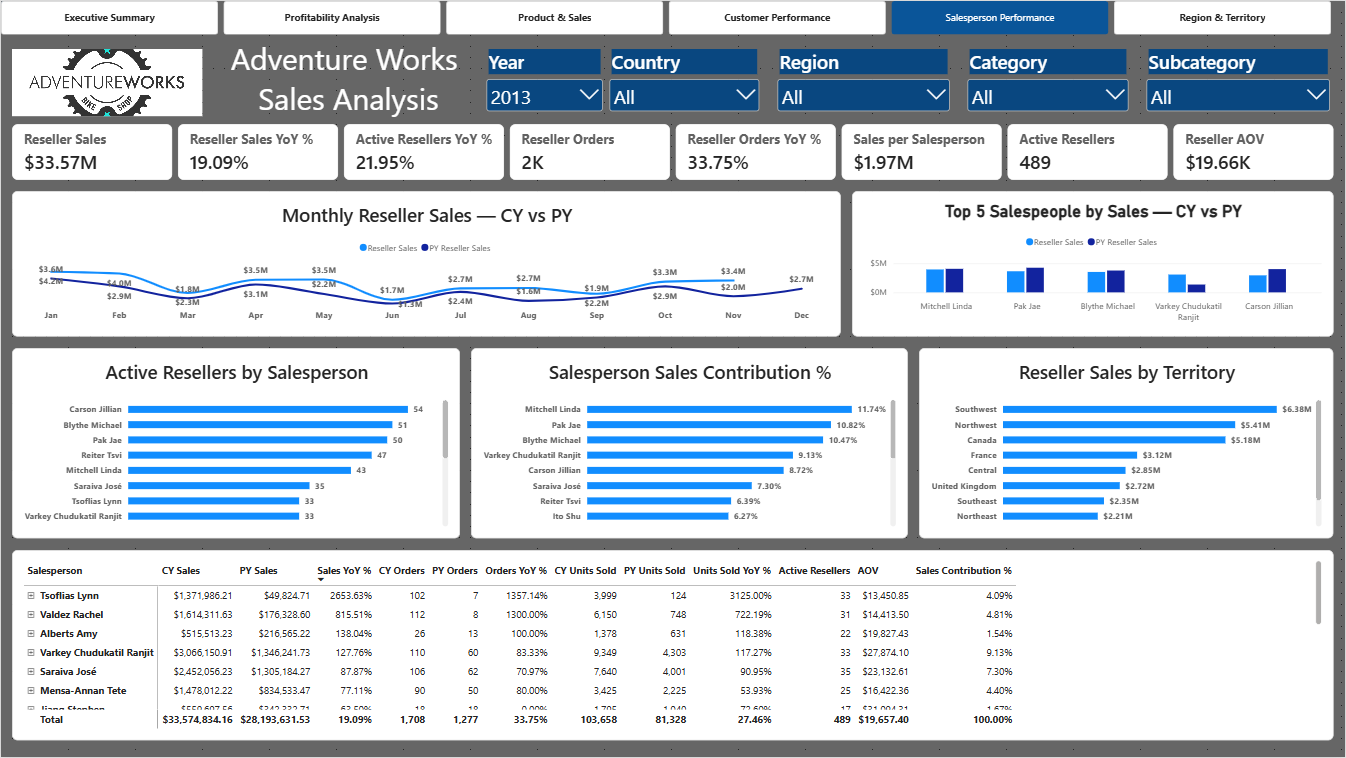

What the dashboard file says about the page in this screenshot:
{"tool":"powerbi","page":{"name":"Salesperson Performance","canvas":[1920,1080],"ordinal":4},"visuals":[{"type":"textbox","box":[304,52.1,384,144],"z":0},{"type":"image","box":[16,68.1,272,96],"z":1000},{"type":"slicer","fields":{"Values":["DimDate.CalendarYear"]},"box":[688,68.1,176,96],"z":2000},{"type":"slicer","fields":{"Values":["DimSalesTerritory.SalesTerritoryRegion"]},"box":[1104,68.1,256,96],"z":3000},{"type":"slicer","fields":{"Values":["DimProductCategory.EnglishProductCategoryName"]},"box":[1376,68.1,240,96],"z":4000},{"type":"slicer","fields":{"Values":["DimProductSubcategory.EnglishProductSubcategoryName"]},"box":[1632,68.1,272,96],"z":5000},{"type":"slicer","fields":{"Values":["DimSalesTerritory.SalesTerritoryCountry"]},"box":[864,68.1,224,96],"z":6000},{"type":"lineChart","title":"Monthly Reseller Sales — CY vs PY","fields":{"Category":["DimDate.Short Month Name"],"Y":["_Measures.Reseller Sales","_Measures.PY Reseller Sales"]},"box":[16,272,1184,208],"z":7000},{"type":"cardVisual","fields":{"Data":["_Measures.Reseller Sales","_Measures.Reseller Sales YoY %","_Measures.Active Resellers YoY %","_Measures.Reseller Orders","_Measures.Reseller Orders YoY %","_Measures.Sales per Salesperson","_Measures.Active Resellers","_Measures.Reseller AOV"]},"box":[16,176,1888,80],"z":8000},{"type":"barChart","title":"Salesperson Sales Contribution %","fields":{"Category":["DimEmployee.Salesperson"],"Y":["_Measures.Salesperson Sales Contribution %"]},"box":[672,496,624,272],"z":9000},{"type":"barChart","title":"Reseller Sales by Territory","fields":{"Category":["DimSalesTerritory.SalesTerritoryRegion"],"Y":["_Measures.Reseller Sales"]},"box":[1312,496,592,272],"z":10000},{"type":"clusteredColumnChart","title":"Top 5 Salespeople by Sales — CY vs PY","fields":{"Y":["_Measures.Reseller Sales","_Measures.PY Reseller Sales"],"Category":["DimEmployee.Salesperson"]},"box":[1216,272,688,208],"z":11000},{"type":"pivotTable","fields":{"Rows":["DimEmployee.Salesperson","DimSalesTerritory.SalesTerritoryRegion"],"Values":["_Measures.Reseller Sales","_Measures.PY Reseller Sales","_Measures.Reseller Sales YoY %","_Measures.Reseller Orders","_Measures.PY Reseller Orders","_Measures.Reseller Orders YoY %","_Measures.Reseller Units Sold","_Measures.PY Reseller Units Sold","_Measures.Test Reseller Units Sold YoY %","_Measures.Active Resellers","_Measures.Reseller AOV","_Measures.Salesperson Sales Contribution %"]},"box":[16,784,1888,272],"z":12000},{"type":"barChart","title":"Active Resellers by Salesperson","fields":{"Y":["_Measures.Active Resellers"],"Category":["DimEmployee.Salesperson"]},"box":[16,496,640,272],"z":13000},{"type":"actionButton","box":[0,0,100,40],"z":14000},{"type":"pageNavigator","box":[0,0,1904,48],"z":15000}]}

Visuals, with their boxes in screenshot pixels (x1, y1, x2, y2), scaled from the page's 1920x1080 canvas onto the 1346x758 screenshot:
textbox: <bbox>213, 37, 482, 138</bbox>
image: <bbox>11, 48, 202, 115</bbox>
slicer - DimDate.CalendarYear: <bbox>482, 48, 606, 115</bbox>
slicer - DimSalesTerritory.SalesTerritoryRegion: <bbox>774, 48, 953, 115</bbox>
slicer - DimProductCategory.EnglishProductCategoryName: <bbox>965, 48, 1133, 115</bbox>
slicer - DimProductSubcategory.EnglishProductSubcategoryName: <bbox>1144, 48, 1335, 115</bbox>
slicer - DimSalesTerritory.SalesTerritoryCountry: <bbox>606, 48, 763, 115</bbox>
"Monthly Reseller Sales — CY vs PY" lineChart: <bbox>11, 191, 841, 337</bbox>
cardVisual - _Measures.Reseller Sales x _Measures.Reseller Sales YoY %: <bbox>11, 124, 1335, 180</bbox>
"Salesperson Sales Contribution %" barChart: <bbox>471, 348, 909, 539</bbox>
"Reseller Sales by Territory" barChart: <bbox>920, 348, 1335, 539</bbox>
"Top 5 Salespeople by Sales — CY vs PY" clusteredColumnChart: <bbox>852, 191, 1335, 337</bbox>
pivotTable - DimEmployee.Salesperson x DimSalesTerritory.SalesTerritoryRegion: <bbox>11, 550, 1335, 741</bbox>
"Active Resellers by Salesperson" barChart: <bbox>11, 348, 460, 539</bbox>
actionButton: <bbox>0, 0, 70, 28</bbox>
pageNavigator: <bbox>0, 0, 1335, 34</bbox>
